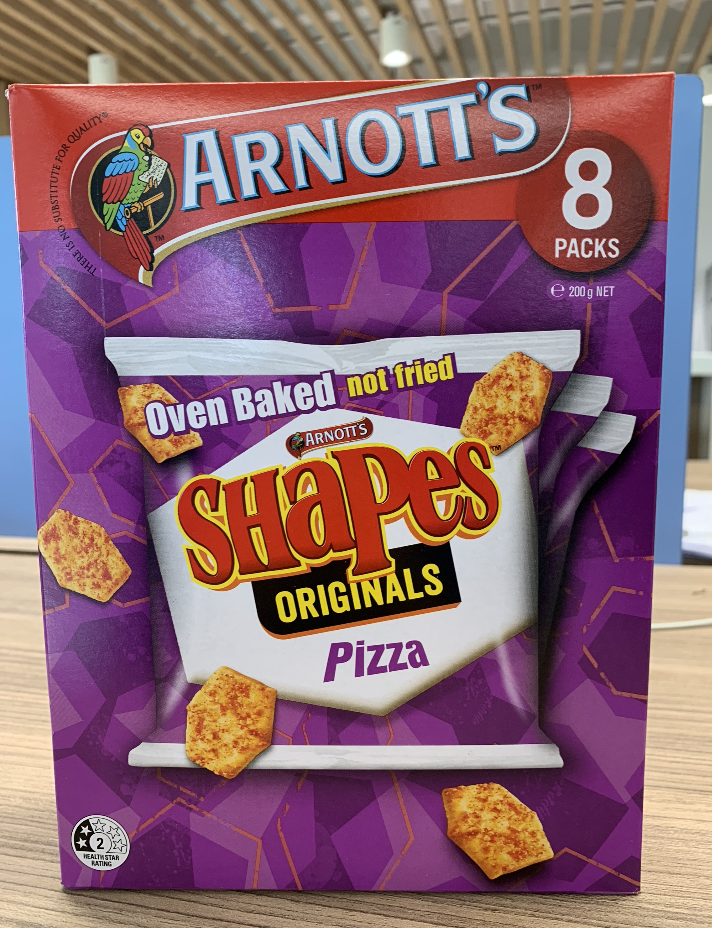crackers_200g-299g: (58, 100, 612, 881)
